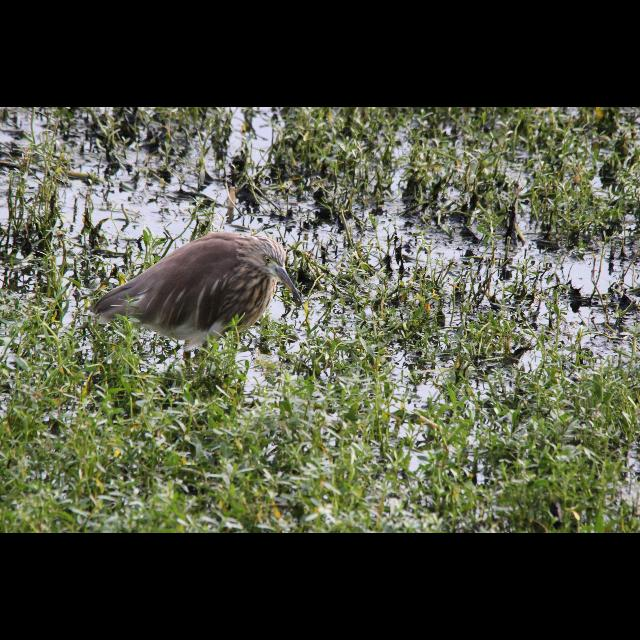heron: (89, 222, 318, 362)
